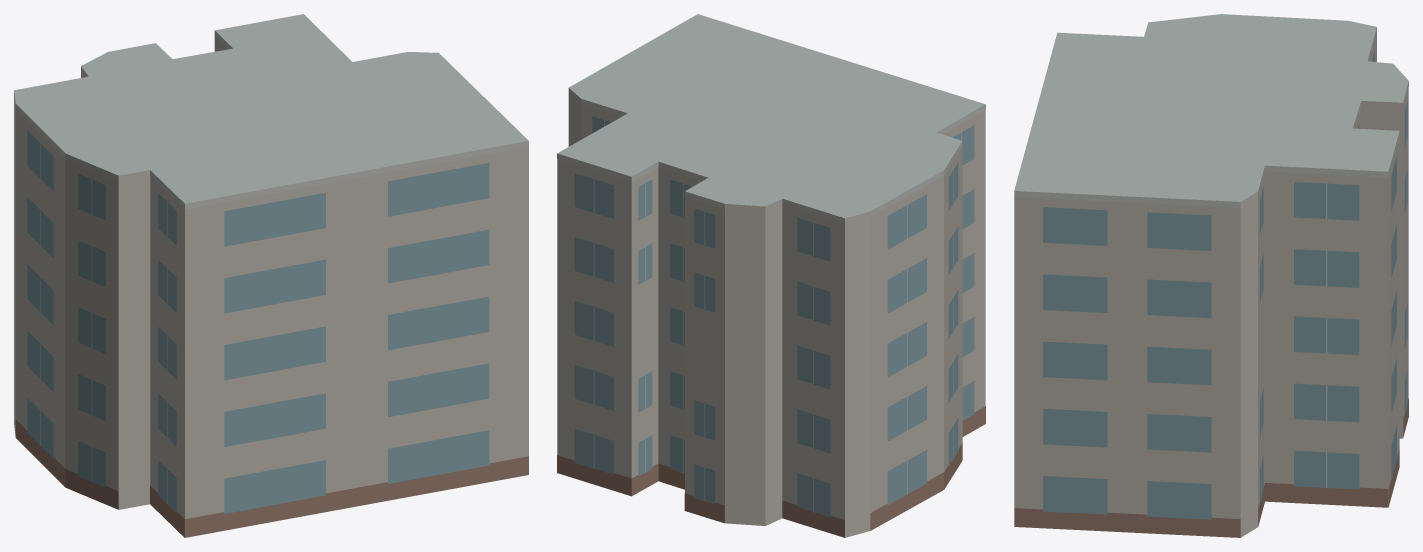
The model's file is survey-upis-32936926.glb.
3 views of the same model, side by side, from view 1: azimuth 30°, elevation 25°; view 2: azimuth 150°, elevation 25°; view 3: azimuth 270°, elevation 25° (orthographic). The views are drawn at different scales.
Visible parts, largest first — view 1: survey-upis-32936926.tmp; view 2: survey-upis-32936926.tmp; view 3: survey-upis-32936926.tmp.
Part boxes in pixels (x1=…): survey-upis-32936926.tmp: x1=14, y1=14, x2=528, y2=537; survey-upis-32936926.tmp: x1=557, y1=14, x2=985, y2=537; survey-upis-32936926.tmp: x1=1014, y1=14, x2=1408, y2=537.
Bounding box in the file's own units: 16.86 × 14.05 × 14.97.
